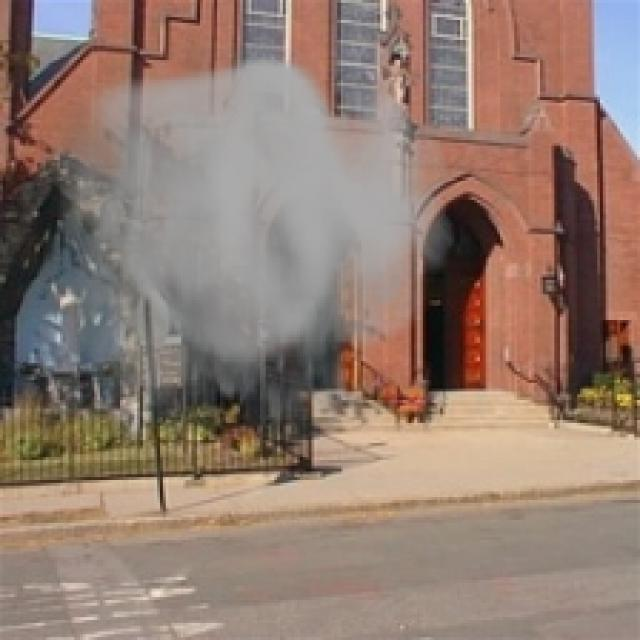Smoke: (34, 48, 454, 474)
